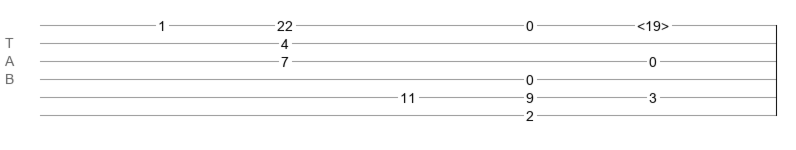0: (526, 18, 534, 28), (526, 72, 534, 82), (649, 54, 657, 64)
1: (158, 18, 166, 28)
11: (400, 90, 416, 100)
2: (526, 108, 534, 118)
22: (277, 18, 293, 28)
3: (649, 90, 657, 100)
4: (281, 36, 289, 46)
7: (281, 54, 289, 64)
9: (526, 90, 534, 100)
harmonic: (637, 18, 669, 28)
